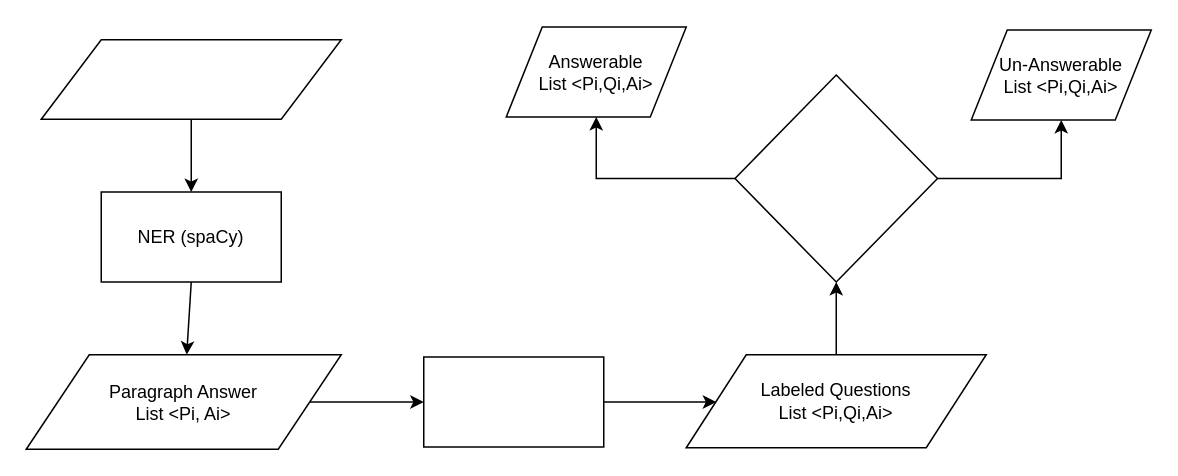
Some shapes in this 1178 by 476 pixel diagram are drawn without their labels. The shapes that lost their labels are listed below. From the top down, each one's centre as x and y in pixels, then its label:
[190,78]: Paragraphs List <Pi>
[836,178]: Filter ( Grammar Checker + Classifier )
[513,401]: UNILM Question Generation
